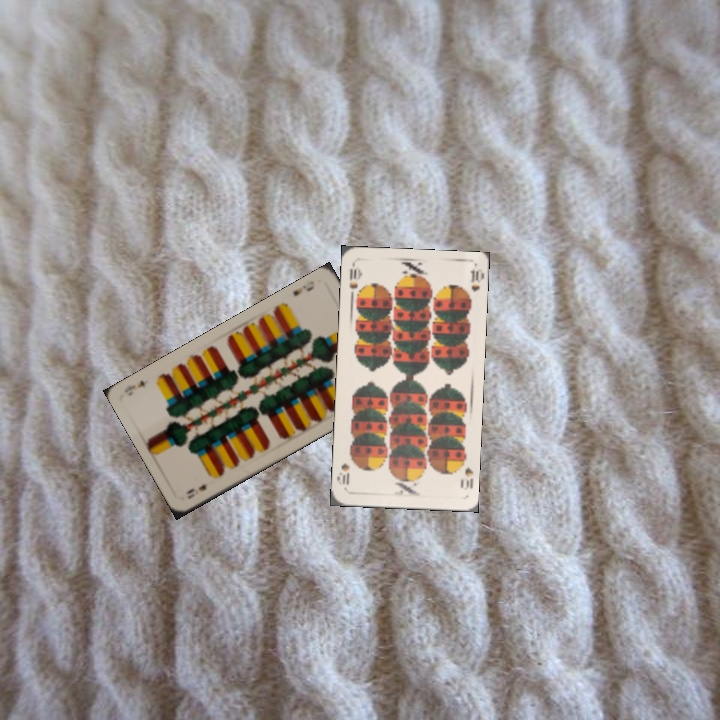E9: (289, 276, 317, 299), (182, 480, 211, 501)
S10: (456, 455, 475, 493), (345, 261, 363, 291)
